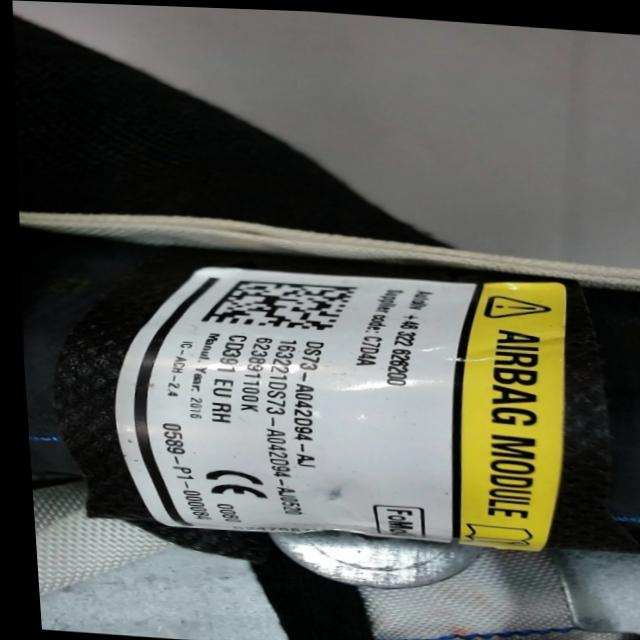datamatrix: (193, 275, 356, 331)
